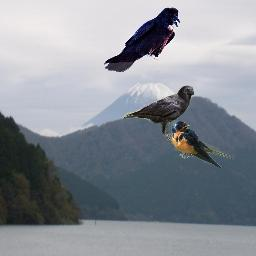Crow: (104, 7, 180, 72), (120, 85, 194, 144)
Swallow: (171, 120, 234, 168)
